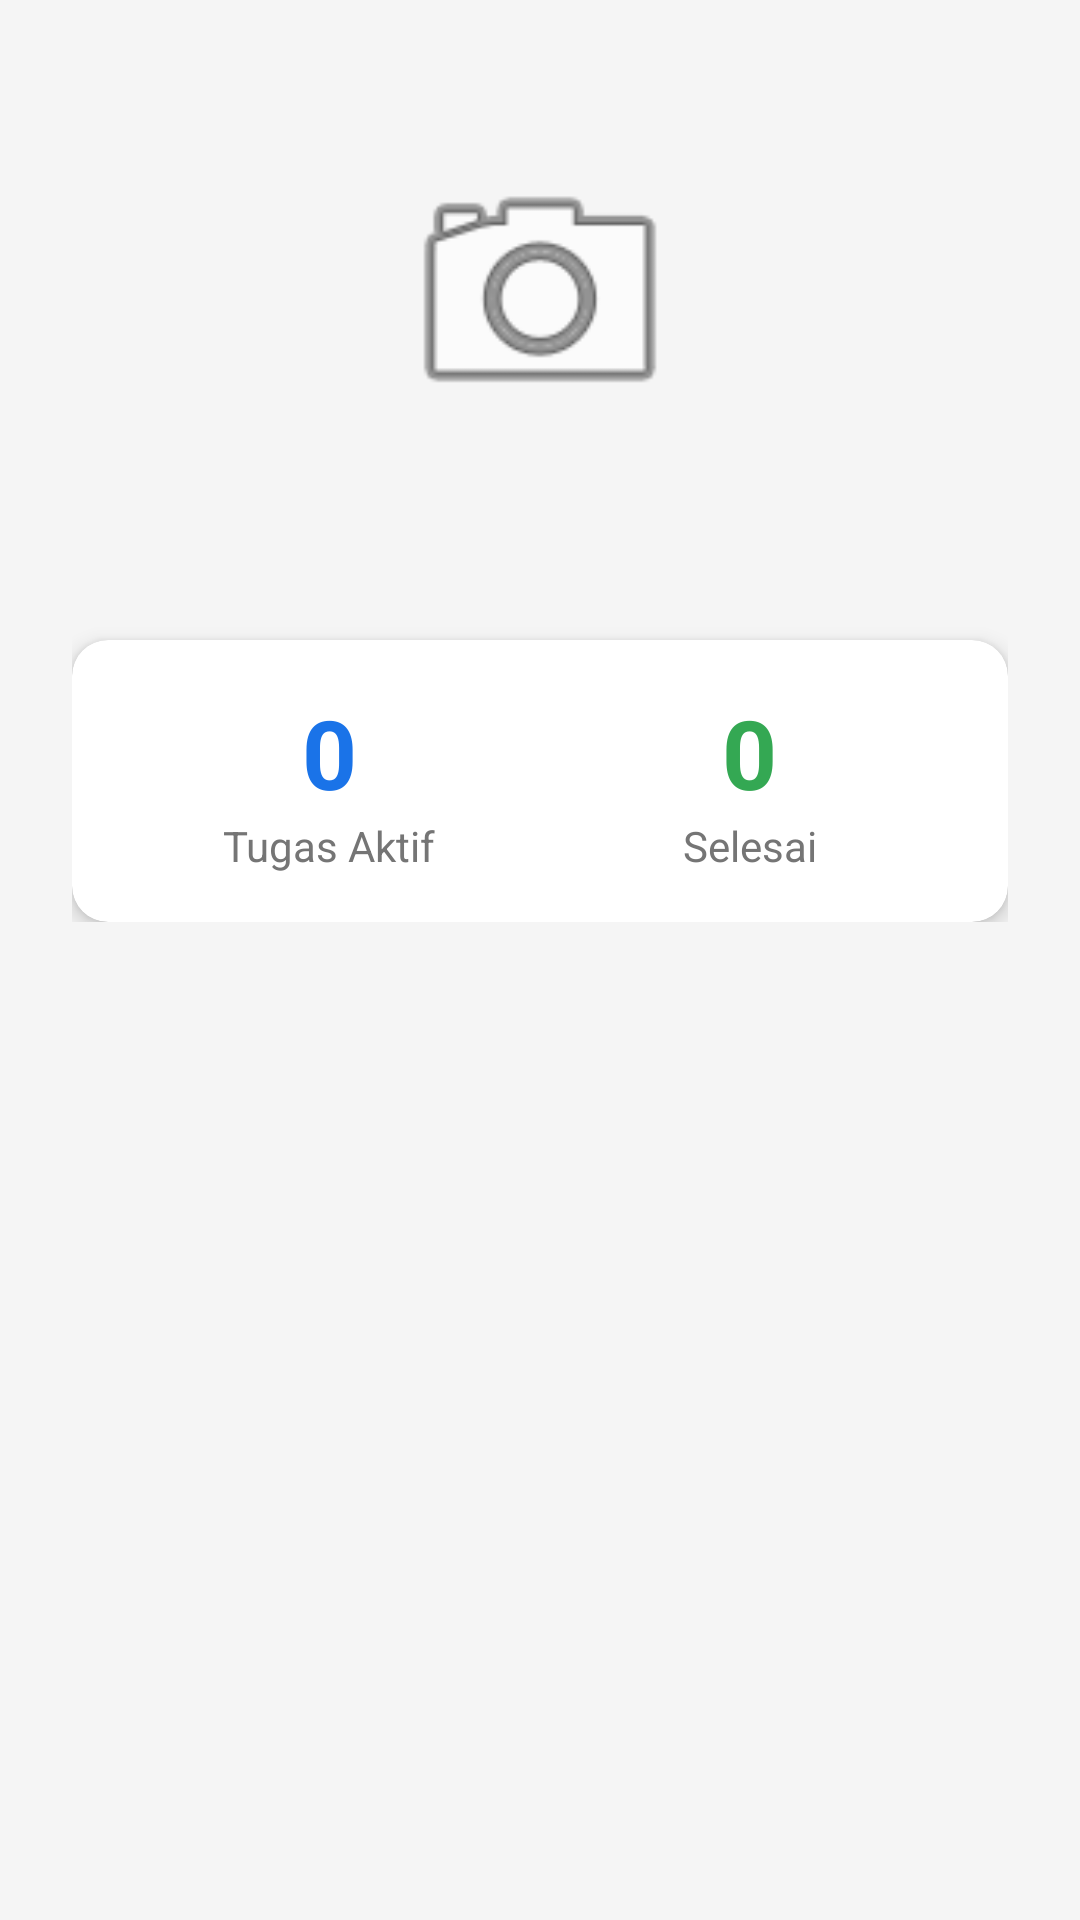

Where to tap for icons on this 1080 × 1920 app screen, as (x,y):
camera: (540,289)
